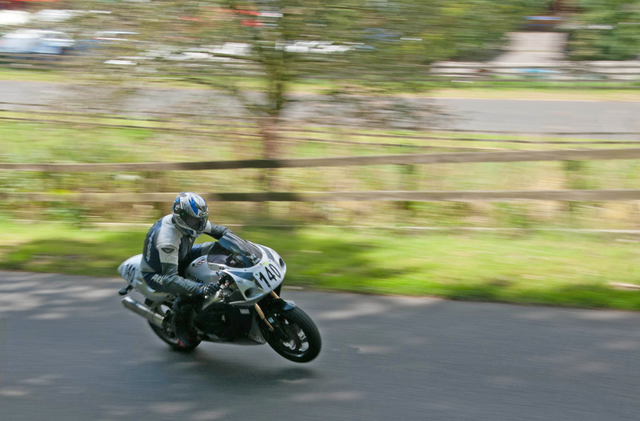helmet: (164, 192, 224, 234)
